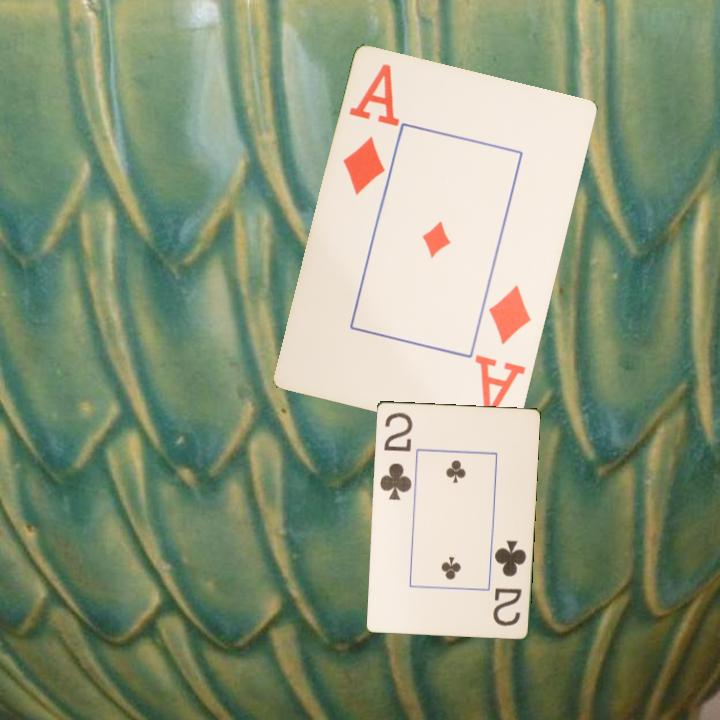2c: (376, 408, 415, 503), (489, 537, 529, 629)
Ad: (472, 281, 535, 422), (339, 60, 401, 199)
